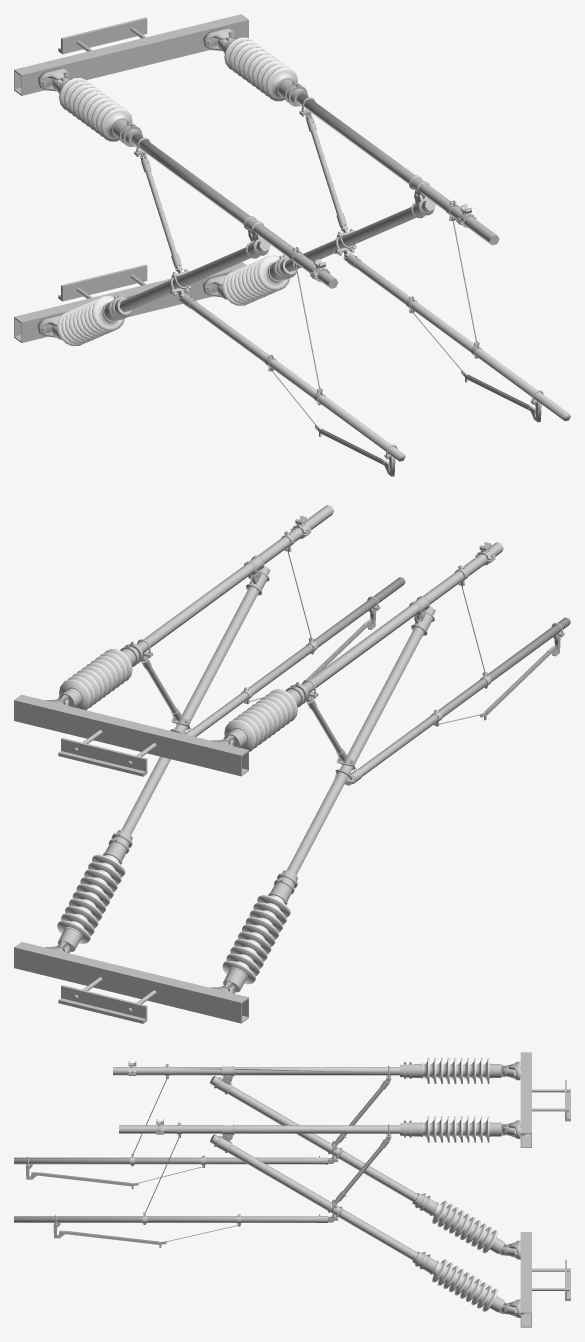
Rendered from single_double_2.obj.
3 views of the same model, one above another, from view 1: azimuth 30°, elevation 25°; view 2: azimuth 150°, elevation 25°; view 3: azimuth 270°, elevation 25° (orthographic). The views are drawn at different scales.
Visible parts, largest first — view 1: 1.091, 1.085, 立方体.427, 1.088, 1.082, 立方体.432, 立方体.429, 立方体.430, 1.084, 1.090; view 2: 1.091, 1.085, 立方体.427, 立方体.432, 1.088, 1.082, 立方体.429, 立方体.430, 1.090, 1.084; view 3: 1.085, 1.091, 1.088, 1.082, 立方体.432, 立方体.427, 1.084, 1.090.
Part boxes in pixels (box(x1,y1,x2,y2)): 1.091: box(56, 78, 405, 461); 1.085: box(221, 38, 570, 421); 立方体.427: box(14, 14, 248, 95); 1.088: box(57, 77, 132, 345); 1.082: box(222, 37, 297, 305); 立方体.432: box(14, 262, 246, 342); 立方体.429: box(58, 17, 147, 54); 立方体.430: box(58, 264, 147, 301); 1.084: box(405, 296, 543, 422); 1.090: box(265, 354, 397, 476); 1.091: box(223, 542, 570, 993); 1.085: box(57, 505, 405, 953); 立方体.427: box(14, 694, 248, 776); 立方体.432: box(14, 942, 248, 1023); 1.088: box(222, 689, 297, 984); 1.082: box(57, 649, 132, 943); 立方体.429: box(58, 738, 147, 776); 立方体.430: box(58, 985, 147, 1023); 1.090: box(430, 622, 564, 726); 1.084: box(241, 596, 380, 704); 1.085: box(14, 1119, 508, 1313); 1.091: box(14, 1061, 508, 1255); 1.088: box(422, 1058, 497, 1253); 1.082: box(422, 1116, 497, 1311); 立方体.432: box(520, 1232, 531, 1327); 立方体.427: box(520, 1052, 531, 1147); 1.084: box(53, 1214, 241, 1247); 1.090: box(26, 1155, 205, 1189).
Bounding box in the file's own units: 1.72 × 1.98 × 5.02.
